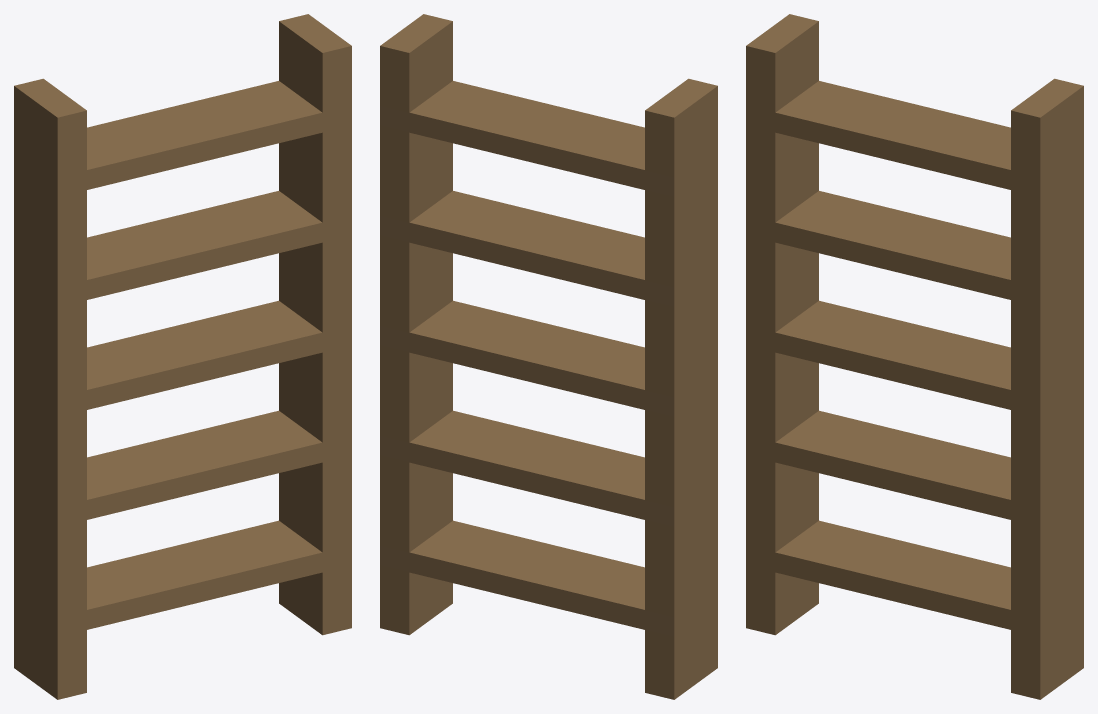
Rendered from shkaf_Lv1.fbx.
3 views of the same model, side by side, from view 1: azimuth 30°, elevation 25°; view 2: azimuth 150°, elevation 25°; view 3: azimuth 330°, elevation 25° (orthographic).
Visible parts, largest first — view 1: polySurface19; view 2: polySurface19; view 3: polySurface19.
Boxes of the visible parts, x1=… form: polySurface19: x1=14, y1=14, x2=351, y2=699; polySurface19: x1=380, y1=14, x2=717, y2=699; polySurface19: x1=746, y1=14, x2=1083, y2=699.
Size of the model in its own units: 84.04 by 159 by 21.56.
